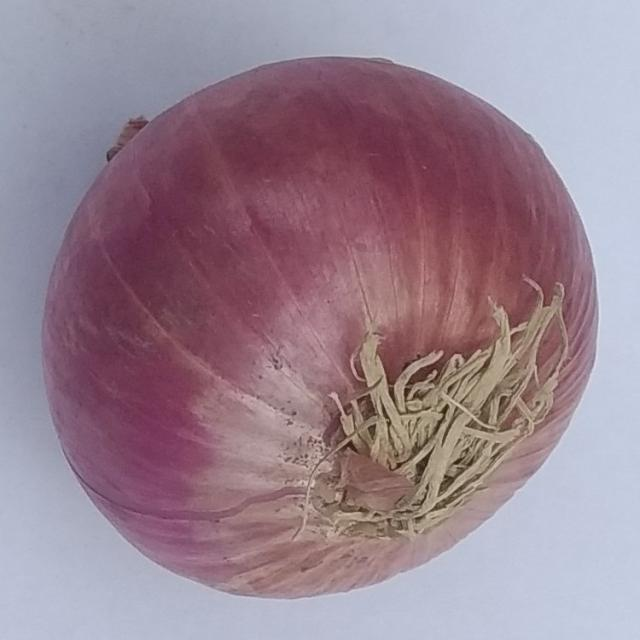onion: (39, 55, 602, 602)
